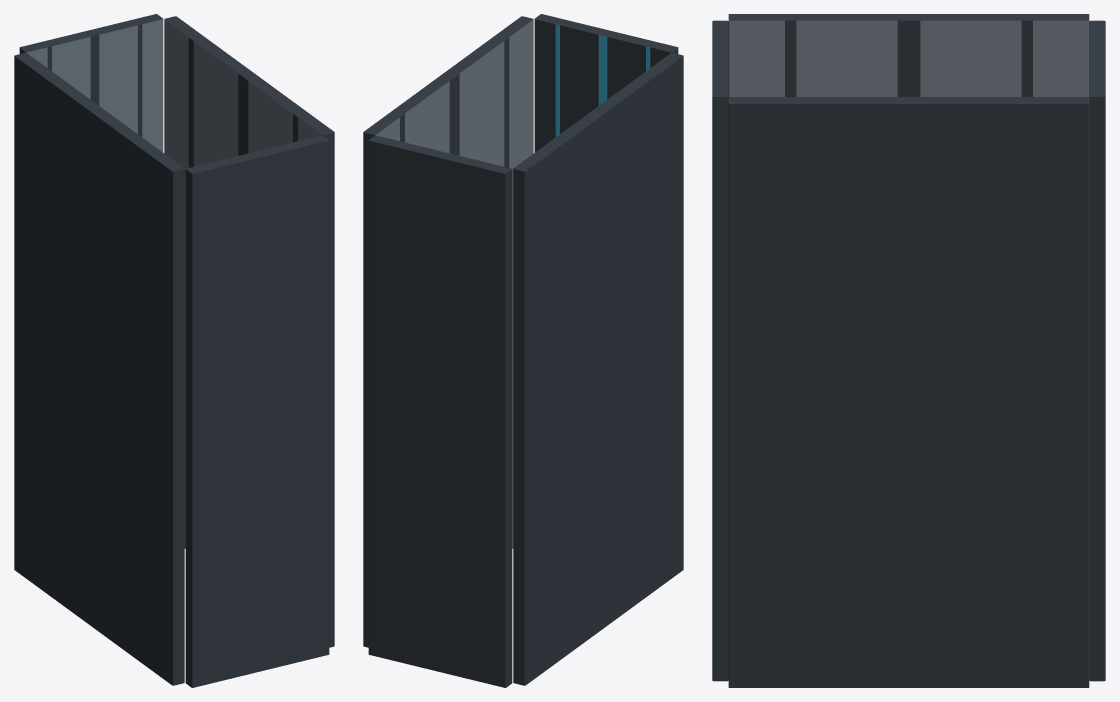
File: PuzzleCorridor.fbx
3 renders of one model, left to right at view 1: azimuth 30°, elevation 25°; view 2: azimuth 150°, elevation 25°; view 3: azimuth 270°, elevation 25°, orthographic. The views are drawn at different scales.
Visible parts, largest first — view 1: Segment_Safe_Wall_L, Segment_Safe_Ceiling, Segment_Safe_Wall_R, Segment_S3_Wall_L, Segment_S5_Wall_L, Segment_S1_Wall_L, Segment_S4_Wall_L, Segment_S6_Wall_L, Segment_S2_Wall_L, Segment_Safe_Floor, Segment_S3_Ceiling, Segment_S5_Ceiling (+10 smaller); view 2: Segment_Safe_Wall_L, Segment_Safe_Floor, Segment_Safe_Wall_R, Segment_S3_Wall_L, Segment_S5_Wall_L, Segment_S1_Wall_L, Segment_S4_Wall_L, Segment_S6_Wall_L, Segment_S2_Wall_L, Segment_Safe_Ceiling, Segment_S3_Floor, Segment_S5_Floor (+10 smaller); view 3: Segment_Safe_Wall_R, Segment_Safe_Wall_L, Segment_S3_Wall_R, Segment_S5_Wall_R, Segment_S1_Wall_R, Segment_S6_Wall_R, Segment_S4_Wall_R, Segment_S2_Wall_R, Segment_Safe_Ceiling, Segment_Safe_Floor, Segment_S1_Ceiling, Segment_S1_Floor (+10 smaller).
Part boxes in pixels (bbox=[...]): Segment_Safe_Wall_L: bbox=[14, 52, 184, 300]; Segment_Safe_Ceiling: bbox=[185, 135, 329, 304]; Segment_Safe_Wall_R: bbox=[164, 16, 334, 261]; Segment_S3_Wall_L: bbox=[14, 377, 184, 557]; Segment_S5_Wall_L: bbox=[14, 249, 184, 428]; Segment_S1_Wall_L: bbox=[14, 506, 184, 685]; Segment_S4_Wall_L: bbox=[14, 313, 184, 492]; Segment_S6_Wall_L: bbox=[14, 184, 184, 364]; Segment_S2_Wall_L: bbox=[14, 441, 184, 621]; Segment_Safe_Floor: bbox=[19, 14, 163, 148]; Segment_S3_Ceiling: bbox=[185, 460, 329, 559]; Segment_S5_Ceiling: bbox=[185, 332, 329, 431]; Segment_Safe_Wall_L: bbox=[513, 52, 683, 300]; Segment_Safe_Floor: bbox=[368, 135, 512, 304]; Segment_Safe_Wall_R: bbox=[363, 16, 533, 261]; Segment_S3_Wall_L: bbox=[513, 377, 683, 557]; Segment_S5_Wall_L: bbox=[513, 249, 683, 428]; Segment_S1_Wall_L: bbox=[513, 506, 683, 685]; Segment_S4_Wall_L: bbox=[513, 313, 683, 492]; Segment_S6_Wall_L: bbox=[513, 184, 683, 364]; Segment_S2_Wall_L: bbox=[513, 441, 683, 621]; Segment_Safe_Ceiling: bbox=[534, 14, 678, 148]; Segment_S3_Floor: bbox=[368, 460, 512, 559]; Segment_S5_Floor: bbox=[368, 332, 512, 431]; Segment_Safe_Wall_R: bbox=[728, 97, 1089, 259]; Segment_Safe_Wall_L: bbox=[728, 14, 1089, 96]; Segment_S3_Wall_R: bbox=[728, 459, 1089, 551]; Segment_S5_Wall_R: bbox=[728, 314, 1089, 403]; Segment_S1_Wall_R: bbox=[728, 605, 1089, 687]; Segment_S6_Wall_R: bbox=[728, 242, 1089, 332]; Segment_S4_Wall_R: bbox=[728, 386, 1089, 476]; Segment_S2_Wall_R: bbox=[728, 533, 1089, 622]; Segment_Safe_Ceiling: bbox=[712, 20, 728, 242]; Segment_Safe_Floor: bbox=[1089, 20, 1105, 242]; Segment_S1_Ceiling: bbox=[712, 608, 728, 681]; Segment_S1_Floor: bbox=[1089, 608, 1105, 681].
Size of the model in its own units: 3.3 by 10 by 6.1.
